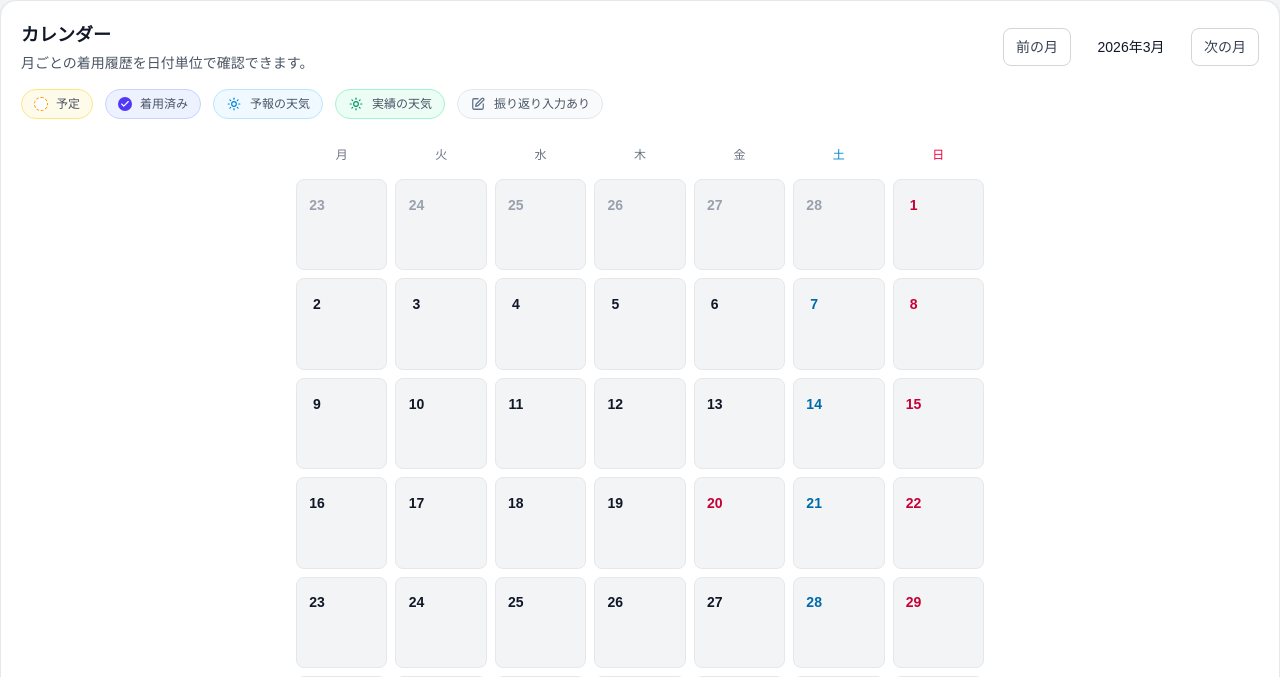
it: WearLogCalendar › 記録がない日付でも新規追加導線を表示する
This screenshot has width=1280, height=677.
Click the button "8".
click(938, 324)  # box [893, 278, 984, 370]
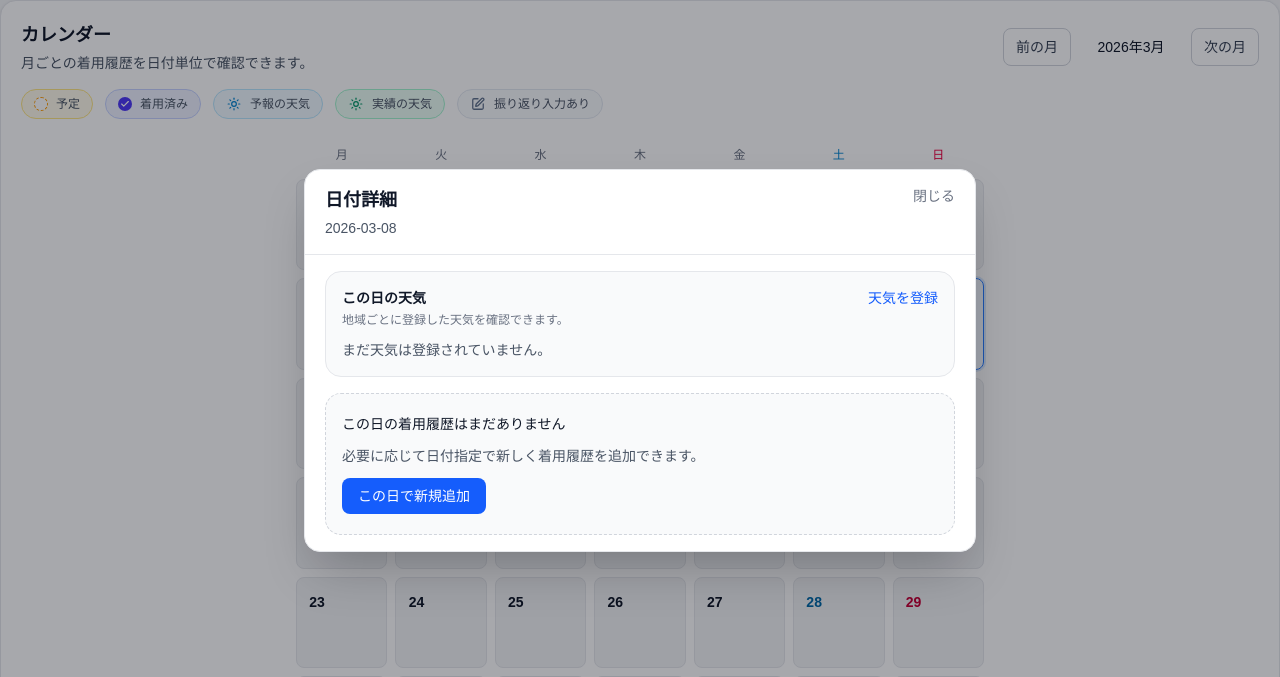
Expected: the text "この日の着用履歴はまだありません" is shown, [342, 416, 566, 432]
